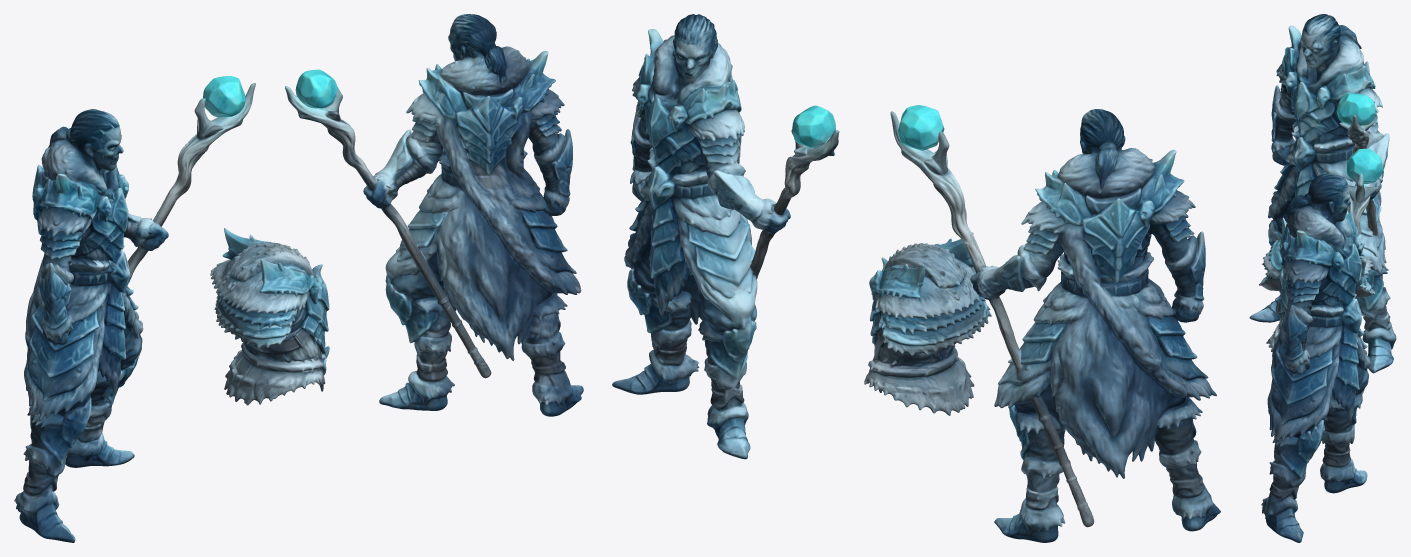
The picture shows the model from 3 angles, left to right: view 1: azimuth 30°, elevation 25°; view 2: azimuth 150°, elevation 25°; view 3: azimuth 270°, elevation 25°; orthographic projection. The views are drawn at different scales.
Parts seen in each view (by area): view 1: tripo_node_b1e5217e-60d0-4a15-8fed-5f81a5a466b4; view 2: tripo_node_b1e5217e-60d0-4a15-8fed-5f81a5a466b4; view 3: tripo_node_b1e5217e-60d0-4a15-8fed-5f81a5a466b4.
Boxes of the visible parts, x1,y1,x2,y2 form: tripo_node_b1e5217e-60d0-4a15-8fed-5f81a5a466b4: (14,14,583,542); tripo_node_b1e5217e-60d0-4a15-8fed-5f81a5a466b4: (612,14,1220,542); tripo_node_b1e5217e-60d0-4a15-8fed-5f81a5a466b4: (1249,14,1396,542).
Size of the model in its own units: 1 by 0.6554 by 0.2644.
1 material, 1 textured.
